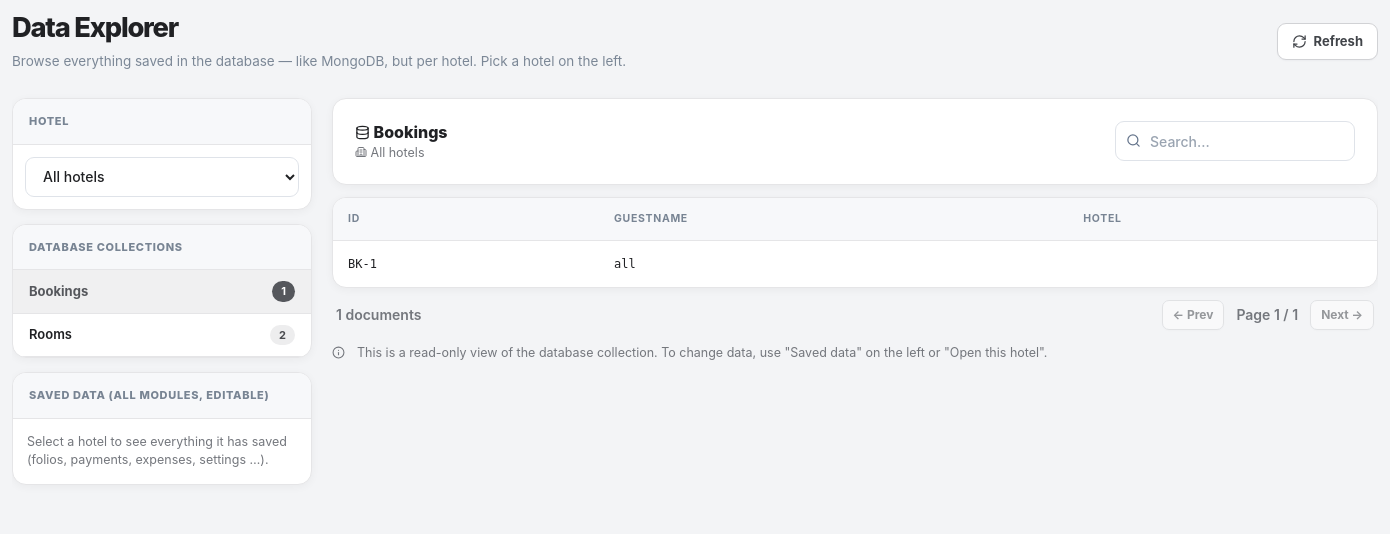
Test: Data Explorer is filtered per hotel › choosing a hotel sends its tenantId and shows only that hotel's rows
Select "Hotel Alpha" in the dropdown named "Hotel" at [162, 176], box 25,156 -> 299,196
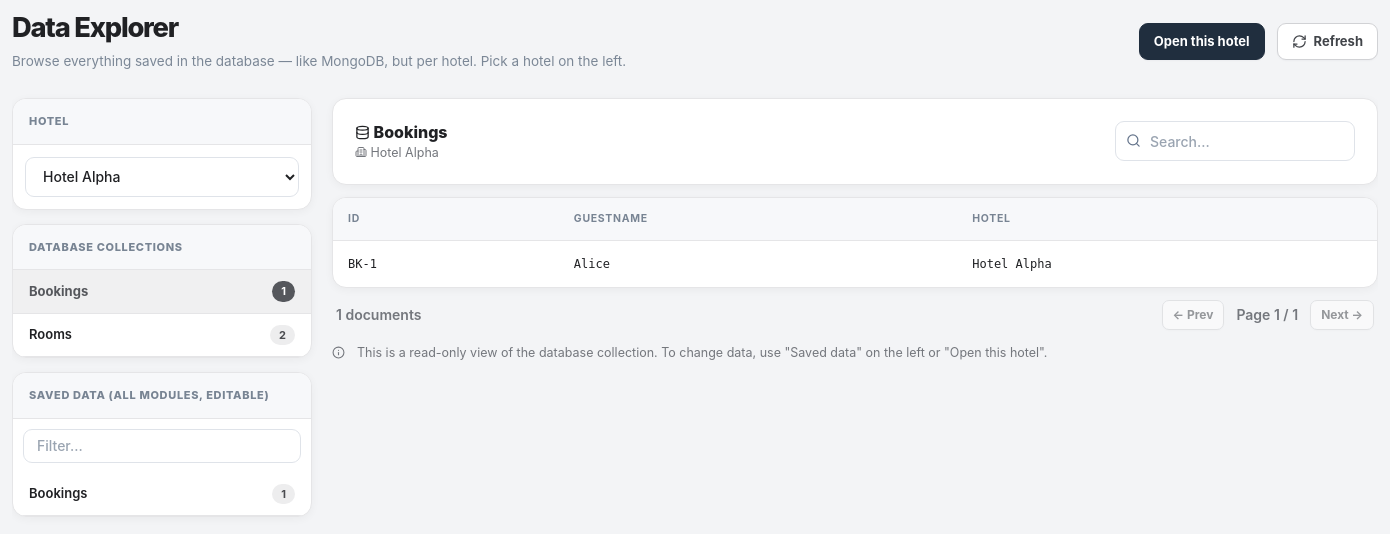
Check: the text "Bob" is not shown
Check: the text "Alice" is shown, box 559,240 -> 957,286
Select "Hotel Beta" in the dropdown named "Hotel" at [162, 176], box 25,156 -> 299,196
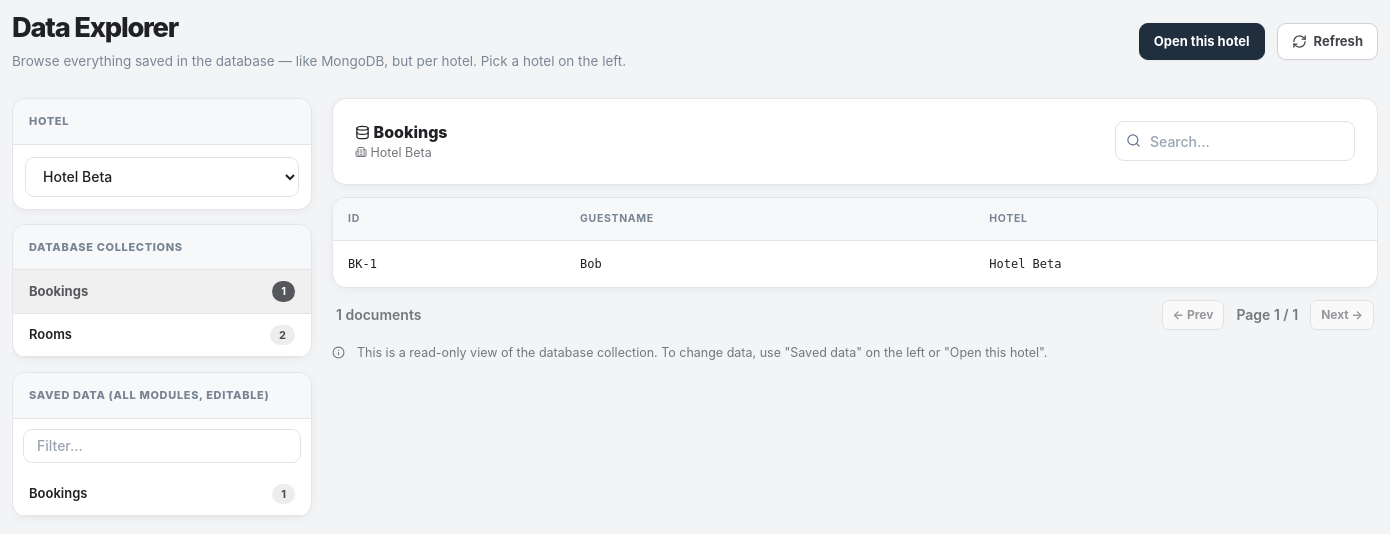
Check: the text "Bob" is shown, box 565,240 -> 974,286
Check: the text "Alice" is gone
